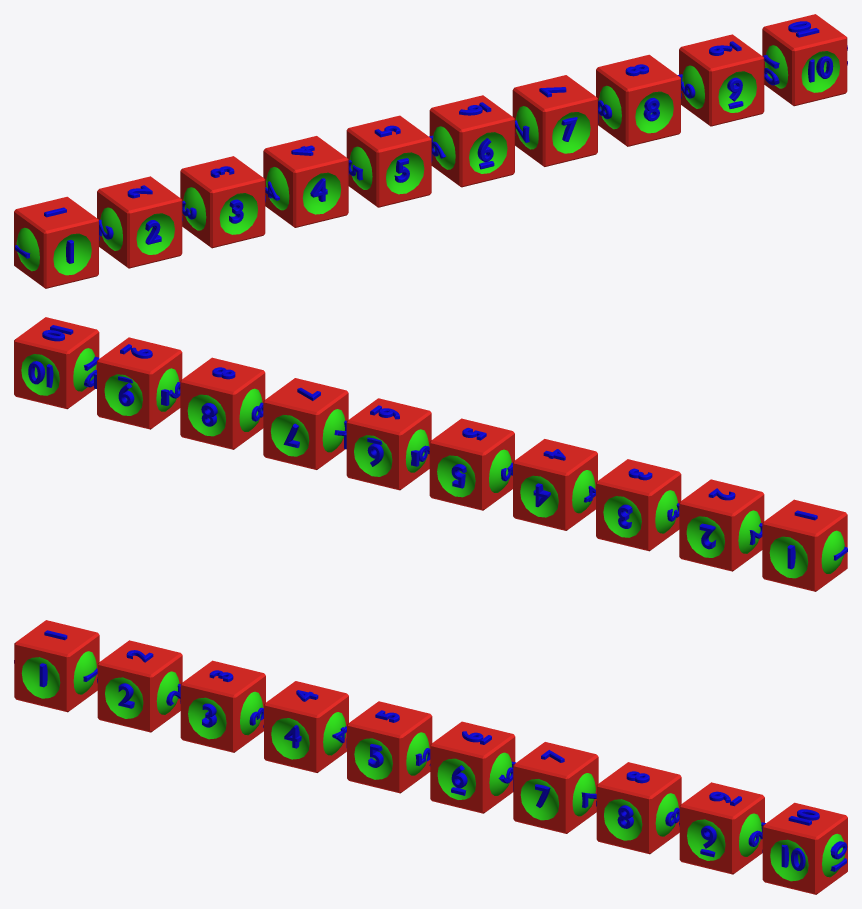
File: NumberedModels.fbx
3 renders of one model, top to bottom at view 1: azimuth 30°, elevation 25°; view 2: azimuth 150°, elevation 25°; view 3: azimuth 330°, elevation 25°, orthographic.
Visible parts, largest first — view 1: Cube.005, Cube.001, Cube.010, Cube.002, Cube.009, Cube.003, Cube.004, Cube.006, Cube.007, Cube.008; view 2: Cube.001, Cube.009, Cube.006, Cube.002, Cube.008, Cube.003, Cube.005, Cube.007, Cube.004, Cube.010; view 3: Cube.010, Cube.005, Cube.002, Cube.009, Cube.003, Cube.008, Cube.001, Cube.007, Cube.006, Cube.004.
Part boxes in pixels (<box>): Cube.005: <box>346,115,432,207</box>; Cube.001: <box>14,196,99,288</box>; Cube.010: <box>762,14,847,106</box>; Cube.002: <box>97,176,182,268</box>; Cube.009: <box>678,34,764,126</box>; Cube.003: <box>180,156,265,248</box>; Cube.004: <box>263,136,349,227</box>; Cube.006: <box>429,95,515,187</box>; Cube.007: <box>512,75,598,166</box>; Cube.008: <box>596,54,681,146</box>; Cube.001: <box>762,499,847,591</box>; Cube.009: <box>94,337,182,429</box>; Cube.006: <box>344,398,431,490</box>; Cube.002: <box>679,479,764,571</box>; Cube.008: <box>180,357,265,449</box>; Cube.003: <box>596,459,681,551</box>; Cube.005: <box>429,418,514,510</box>; Cube.007: <box>263,378,348,469</box>; Cube.004: <box>513,439,597,530</box>; Cube.010: <box>14,317,99,409</box>; Cube.010: <box>762,802,847,894</box>; Cube.005: <box>346,701,432,793</box>; Cube.002: <box>97,640,182,732</box>; Cube.009: <box>679,782,765,874</box>; Cube.003: <box>180,660,265,752</box>; Cube.008: <box>596,762,681,854</box>; Cube.001: <box>14,620,99,712</box>; Cube.007: <box>513,742,598,833</box>; Cube.006: <box>429,721,515,813</box>; Cube.004: <box>263,681,348,772</box>.
Size of the model in its own units: 2966 by 226 by 200.
